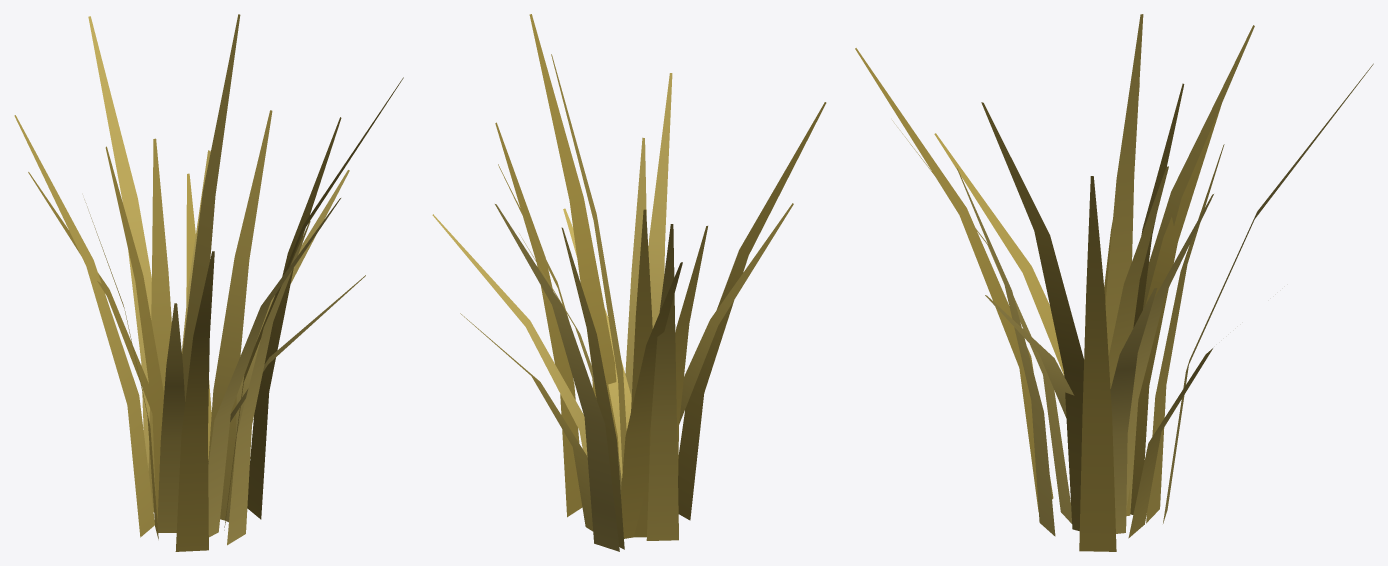
The model's file is nature_grass_dry.glb.
3 renders of one model, left to right at view 1: azimuth 30°, elevation 25°; view 2: azimuth 150°, elevation 25°; view 3: azimuth 270°, elevation 25°, orthographic. The views are drawn at different scales.
Visible parts, largest first — view 1: nature_grass_dry; view 2: nature_grass_dry; view 3: nature_grass_dry.
Boxes of the visible parts, left/top/right/bottom form: nature_grass_dry: left=14, top=14, right=403, bottom=551; nature_grass_dry: left=432, top=14, right=826, bottom=551; nature_grass_dry: left=855, top=14, right=1373, bottom=551.
Size of the model in its own units: 0.5035 by 0.7985 by 0.695.
